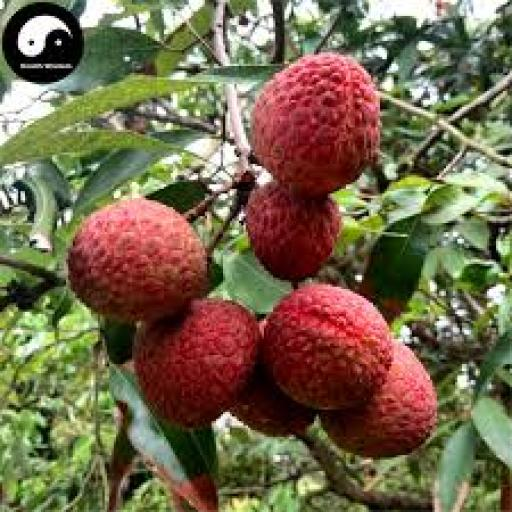lychee: (253, 53, 380, 195), (69, 198, 207, 323), (262, 285, 393, 409), (135, 299, 259, 427), (321, 344, 436, 457), (246, 183, 341, 282), (230, 365, 316, 436)
